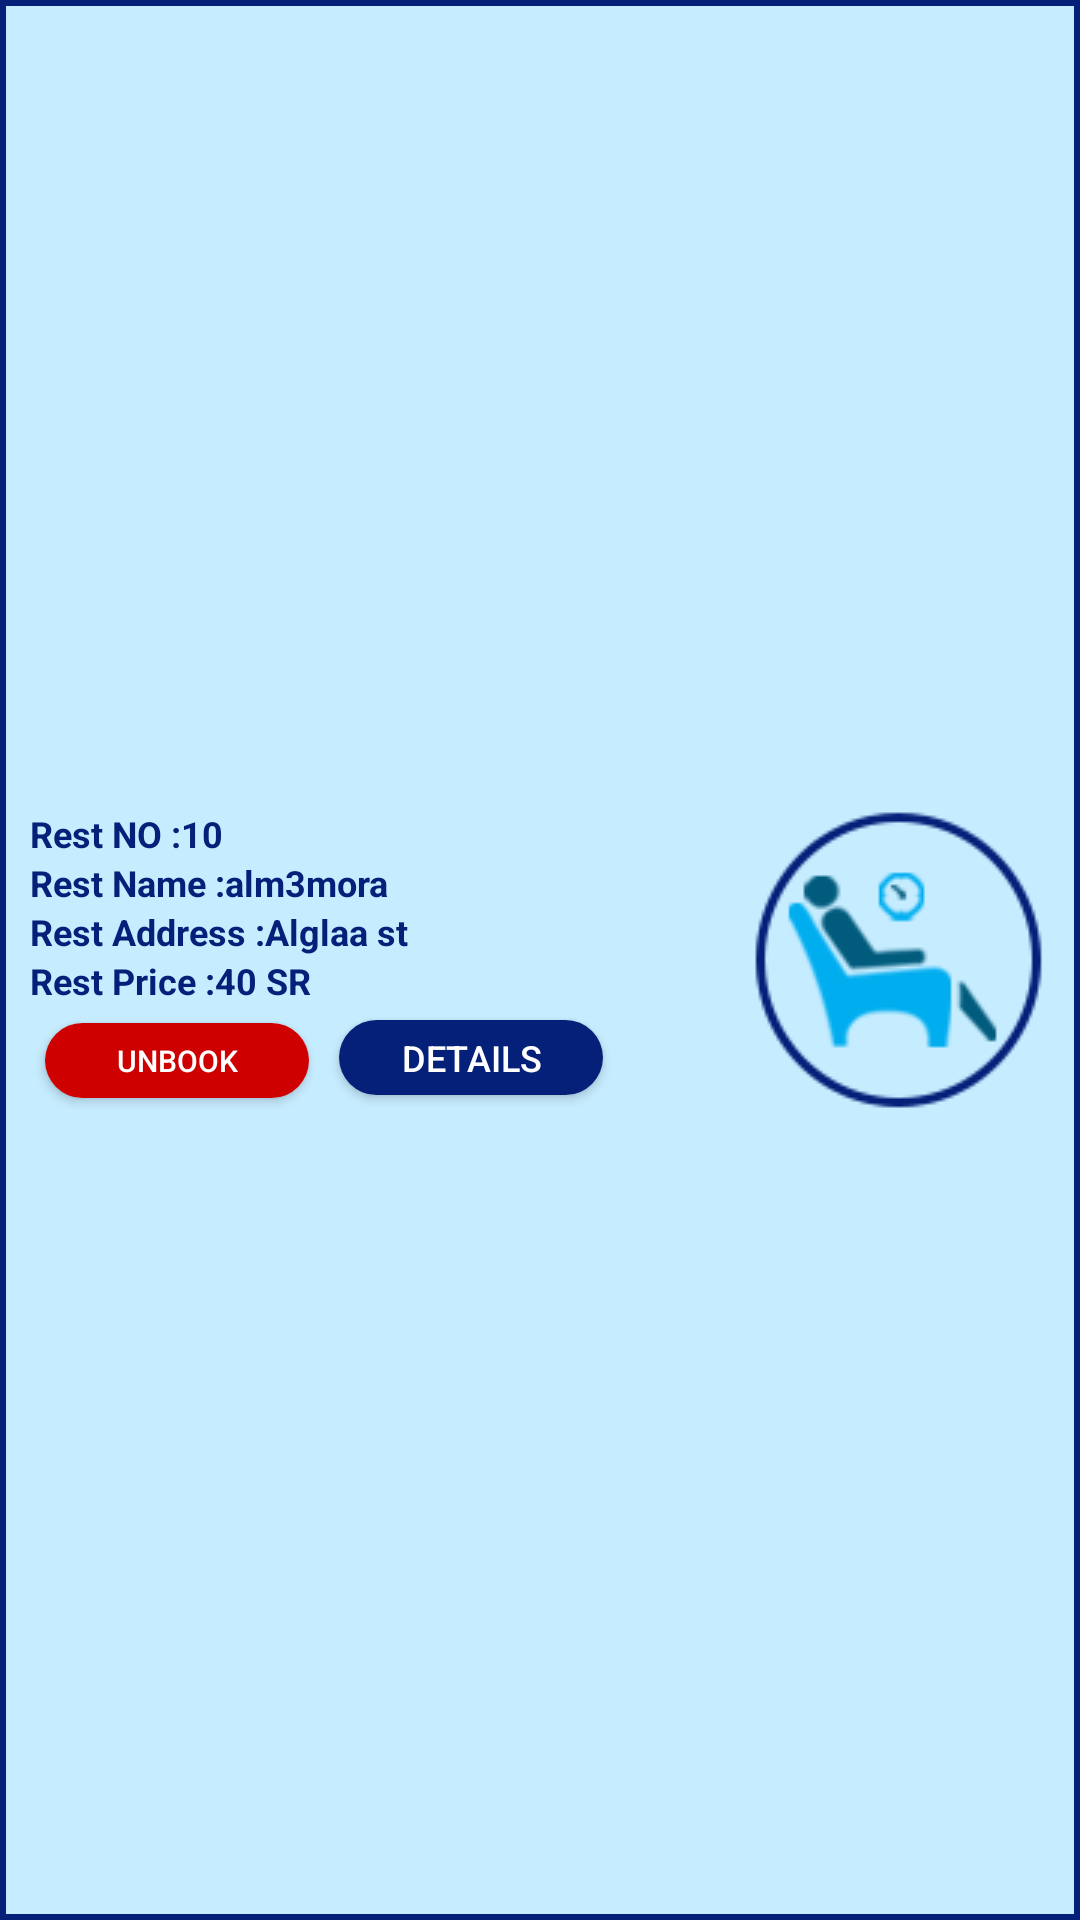

Screen size 1080*1920. Icon name, then its box in pixels as region(x1, y1, x2, y2):
esteraha: region(755, 812, 1042, 1108)
